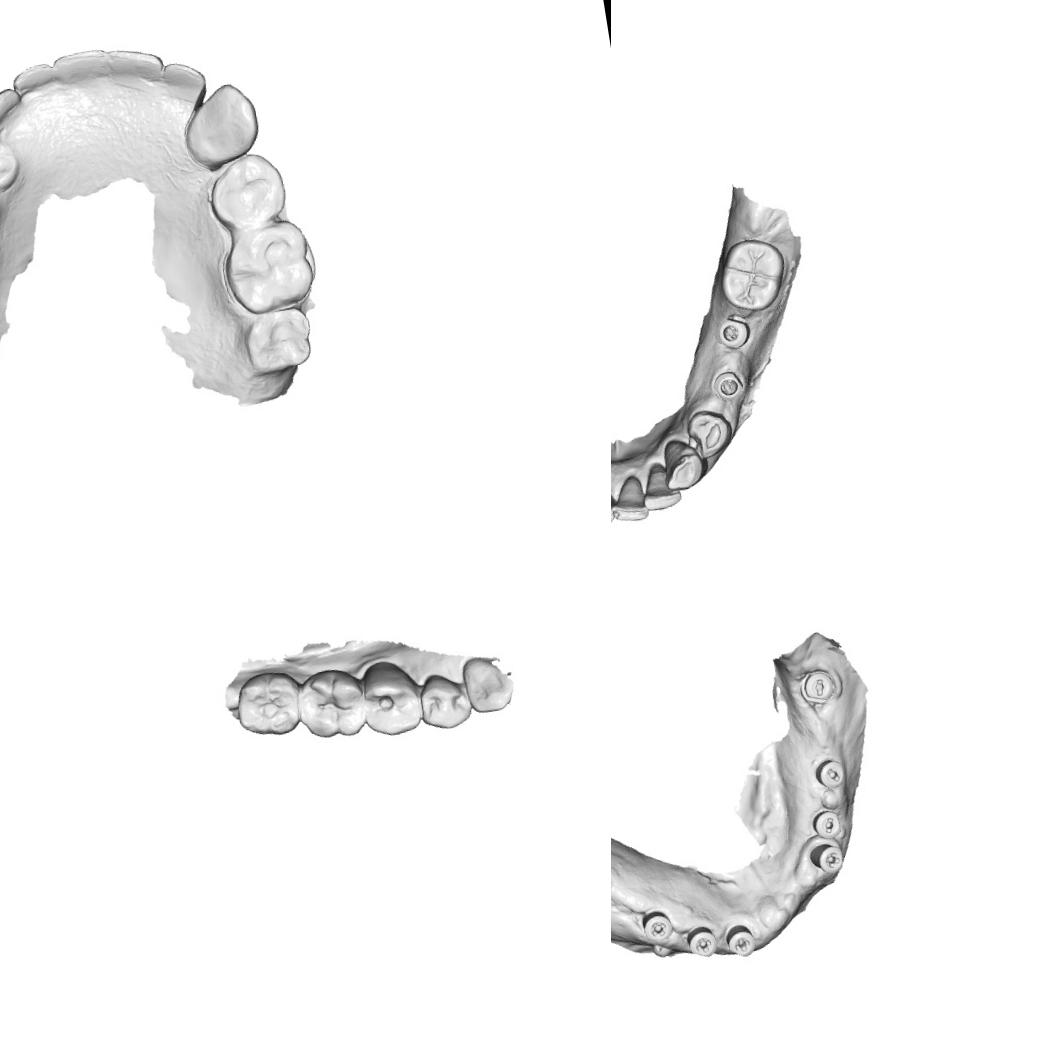canine: (174, 78, 266, 170), (460, 652, 516, 717), (657, 433, 708, 494), (0, 85, 30, 135)
implant: (712, 314, 754, 353), (708, 366, 748, 406)
implant_minus: (796, 663, 839, 708), (812, 756, 850, 792), (810, 806, 844, 841)
implant_plus: (806, 838, 848, 878), (683, 922, 723, 962), (722, 921, 760, 962), (639, 907, 677, 946)
incisor: (47, 47, 110, 92), (162, 54, 210, 112), (104, 42, 159, 92), (637, 460, 684, 514), (611, 470, 654, 526), (10, 60, 59, 109), (611, 477, 621, 534)
molar: (216, 218, 321, 318), (712, 232, 792, 318), (236, 302, 316, 376), (294, 664, 369, 742), (231, 666, 306, 740)
premolar: (202, 149, 298, 234), (356, 654, 426, 740), (416, 668, 473, 732), (684, 404, 738, 463), (0, 127, 19, 195)
